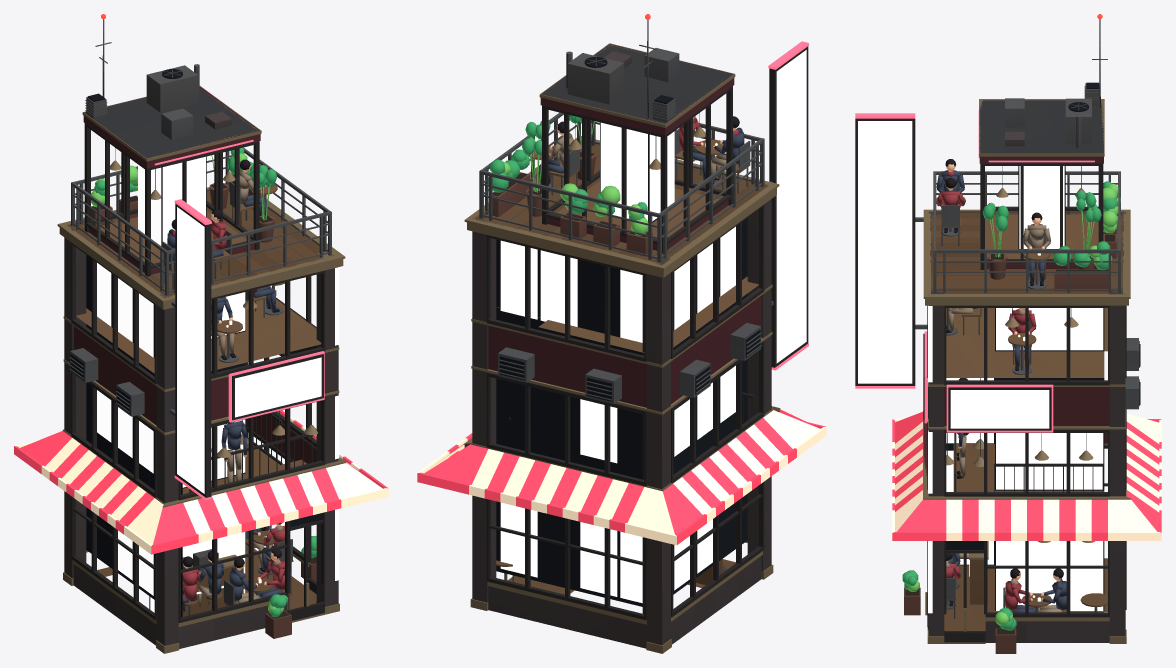
File: kuro264.glb
3 views of the same model, side by side, from view 1: azimuth 30°, elevation 25°; view 2: azimuth 150°, elevation 25°; view 3: azimuth 270°, elevation 25° (orthographic). The views are drawn at different scales.
Parts seen in each view (by area): view 1: k264-frame, k264-wall, k264-steel, k264-wood, k264-awnA, k264-trim, k264-awnB, k264-blade, k264-room2, k264-wall2, k264-dark, k264-roof (+13 smaller); view 2: k264-frame, k264-wall, k264-dark, k264-steel, k264-room2, k264-awnB, k264-awnA, k264-trim, k264-wall2, k264-blade, k264-wood, k264-room1 (+7 smaller); view 3: k264-wood, k264-frame, k264-blade, k264-wall, k264-steel, k264-awnA, k264-awnB, k264-trim, k264-room2, k264-shop, k264-roof, k264-room1 (+13 smaller).
Boxes of the visible parts, left/top/right/bottom form: k264-frame: left=71, top=123, right=325, bottom=622; k264-wall: left=64, top=111, right=338, bottom=648; k264-steel: left=69, top=19, right=331, bottom=615; k264-wood: left=67, top=184, right=334, bottom=616; k264-awnA: left=14, top=410, right=388, bottom=554; k264-trim: left=57, top=86, right=346, bottom=653; k264-awnB: left=15, top=416, right=388, bottom=554; k264-blade: left=177, top=207, right=204, bottom=493; k264-room2: left=97, top=156, right=245, bottom=595; k264-wall2: left=64, top=86, right=316, bottom=503; k264-dark: left=70, top=69, right=322, bottom=617; k264-roof: left=84, top=87, right=260, bottom=158; k264-frame: left=486, top=46, right=808, bottom=620; k264-wall: left=472, top=51, right=771, bottom=648; k264-dark: left=496, top=56, right=760, bottom=613; k264-steel: left=479, top=20, right=773, bottom=581; k264-room2: left=500, top=122, right=735, bottom=603; k264-awnB: left=418, top=410, right=826, bottom=545; k264-awnA: left=417, top=409, right=825, bottom=544; k264-trim: left=463, top=43, right=780, bottom=653; k264-wall2: left=464, top=44, right=779, bottom=447; k264-blade: left=776, top=50, right=806, bottom=363; k264-wood: left=475, top=139, right=768, bottom=594; k264-room1: left=500, top=226, right=735, bottom=590; k264-wood: left=930, top=197, right=1123, bottom=630; k264-frame: left=855, top=118, right=1126, bottom=642; k264-blade: left=858, top=121, right=912, bottom=383; k264-wall: left=928, top=131, right=1125, bottom=642; k264-steel: left=915, top=19, right=1140, bottom=618; k264-awnA: left=892, top=412, right=1161, bottom=540; k264-awnB: left=892, top=413, right=1161, bottom=540; k264-trim: left=923, top=99, right=1131, bottom=643; k264-room2: left=996, top=166, right=1103, bottom=489; k264-shop: left=946, top=450, right=1103, bottom=610; k264-roof: left=979, top=100, right=1103, bottom=153; k264-room1: left=946, top=308, right=1103, bottom=443.
Bounding box in the file's own units: 5.47 × 12.52 × 6.22.
